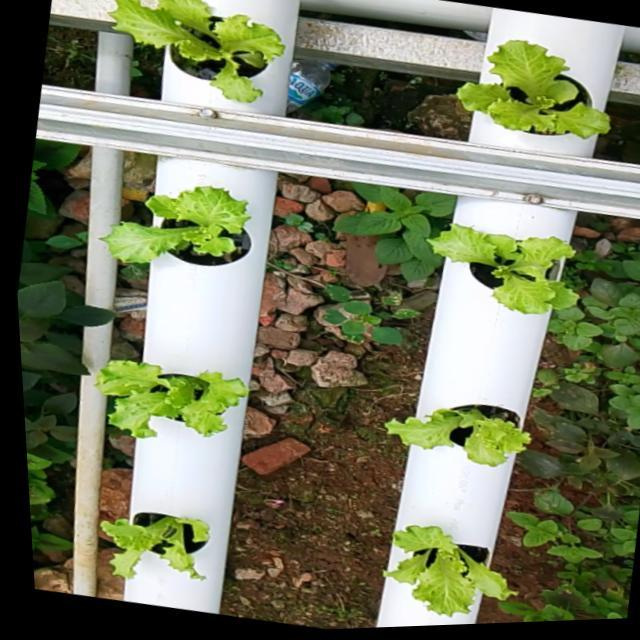Baby: (99, 0, 275, 109), (449, 43, 602, 159), (417, 225, 570, 317), (379, 524, 513, 615), (93, 359, 246, 438), (99, 186, 250, 266), (381, 404, 527, 466), (98, 511, 206, 577)
